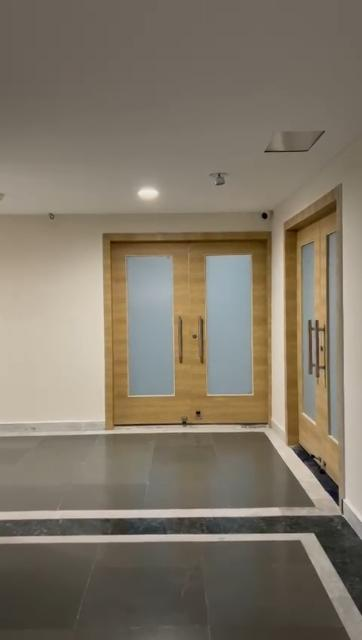door: (105, 227, 274, 423), (281, 220, 343, 462)
floor: (0, 433, 362, 640)
wall: (0, 213, 108, 425), (331, 150, 362, 487)
